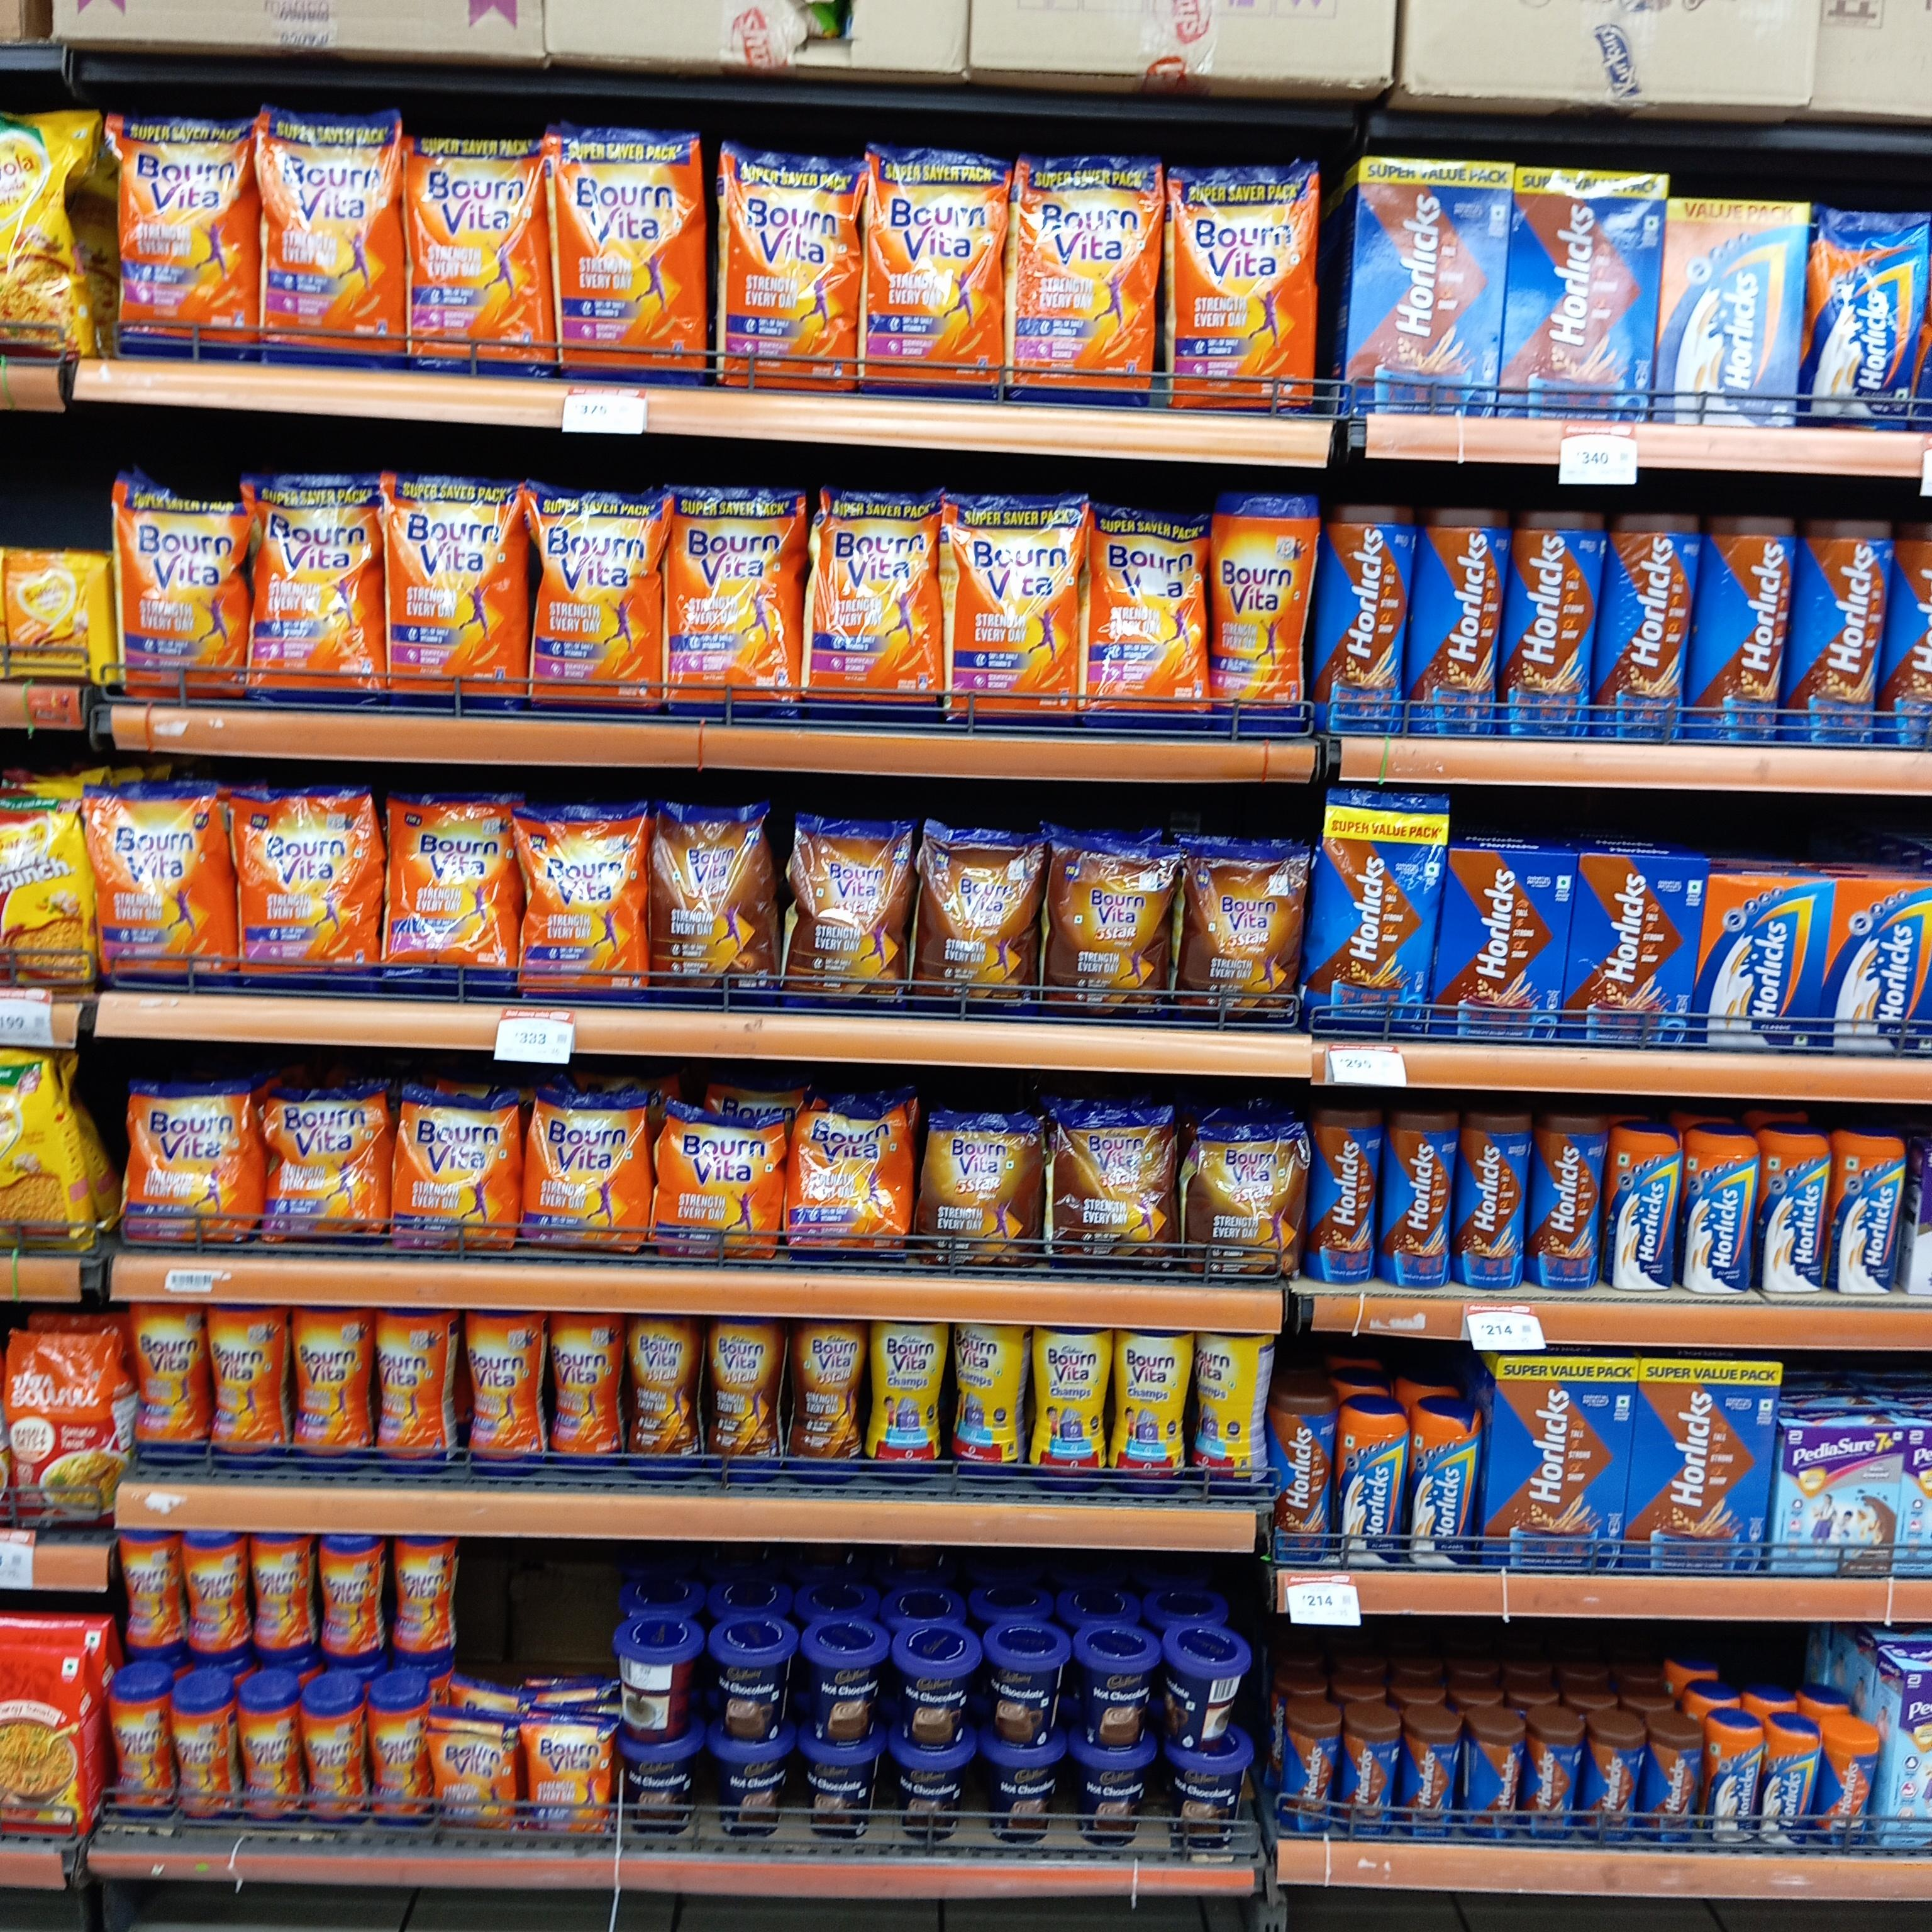BOURN_VITA_1_KG_JAR: (1215, 494, 1307, 747)
BOURN_VITA_1_KG_POUCH: (412, 133, 559, 380), (564, 131, 706, 387), (1014, 159, 1155, 410), (1175, 166, 1318, 412), (267, 111, 403, 370), (113, 110, 255, 357), (869, 143, 1001, 402), (387, 469, 525, 717), (720, 149, 855, 387), (676, 490, 809, 729), (814, 487, 941, 727), (260, 469, 384, 713), (111, 478, 242, 706), (955, 499, 1081, 736), (533, 494, 662, 722), (1097, 504, 1217, 738)
BOURN_VITA_200_G_JAR: (370, 1681, 432, 1831), (318, 1530, 382, 1668), (110, 1670, 166, 1821), (241, 1691, 299, 1833), (306, 1683, 361, 1829), (251, 1532, 311, 1663), (182, 1534, 241, 1661), (173, 1683, 225, 1824), (393, 1534, 448, 1661), (122, 1527, 175, 1656)
BOURN_VITA_500_G_JAR: (214, 1299, 285, 1479), (465, 1309, 538, 1484), (373, 1306, 446, 1479), (295, 1307, 366, 1472), (136, 1306, 205, 1474), (550, 1313, 621, 1472)
BOURN_VITA_500_G_POUCH: (257, 1083, 389, 1253), (131, 1086, 249, 1253), (402, 1095, 520, 1260), (660, 1108, 784, 1265), (534, 1100, 649, 1256), (793, 1100, 901, 1265)
BOURN_VITA_750_G_POUCH: (88, 782, 234, 993), (241, 786, 379, 989), (391, 796, 517, 1000), (522, 810, 648, 1007)
BOURN_VITA_75_G_POUCH: (529, 1716, 614, 1845), (433, 1730, 515, 1836)
BOURN_VITA_CHAMPS_500_G_JAR: (1113, 1325, 1187, 1502), (865, 1318, 939, 1490), (1037, 1323, 1111, 1493), (945, 1322, 1012, 1491), (1191, 1327, 1249, 1497)
BOURN_VITA_FIVE_STAR_MAGIC_500_G_JAR: (706, 1316, 786, 1483), (628, 1313, 701, 1483), (794, 1320, 863, 1486)
BOURN_VITA_FIVE_STAR_MAGIC_500_G_POUCH: (1056, 1108, 1178, 1281), (929, 1115, 1044, 1270), (1192, 1125, 1306, 1283)
BOURN_VITA_FIVE_STAR_MAGIC_750_G_POUCH: (653, 796, 778, 1012), (796, 810, 913, 1016), (920, 823, 1035, 1016), (1053, 840, 1166, 1024), (1187, 839, 1300, 1021)
HORLICK_CHOCOLATE_1_KG_JAR: (1414, 502, 1502, 743), (1325, 504, 1412, 741), (1509, 499, 1594, 740), (1803, 518, 1891, 748), (1711, 511, 1798, 743), (1603, 511, 1688, 747)
HORLICK_CHOCOLATE_1_KG_PACK: (1353, 157, 1499, 418), (1506, 163, 1652, 419), (1633, 1361, 1769, 1575), (1500, 1361, 1624, 1573)
HORLICK_CHOCOLATE_200_G_JAR: (1644, 1723, 1702, 1851), (1465, 1716, 1523, 1840), (1401, 1718, 1458, 1844), (1283, 1706, 1334, 1844), (1589, 1720, 1642, 1851), (1346, 1720, 1401, 1844), (1530, 1718, 1582, 1847)
HORLICK_CHOCOLATE_500_G_JAR: (1534, 1113, 1603, 1293), (1270, 1389, 1336, 1573), (1458, 1113, 1527, 1286), (1385, 1111, 1451, 1293), (1313, 1109, 1380, 1286)
HORLICK_CHOCOLATE_500_G_PACK: (1573, 849, 1698, 1047), (1444, 849, 1559, 1040)
HORLICK_CHOCOLATE_750_G_POUCH: (1315, 789, 1438, 1033)
HORLICK_CLASSIC_MALT_200_G_JAR: (1713, 1716, 1762, 1854), (1766, 1729, 1817, 1854)
HORLICK_CLASSIC_MALT_500_G_JAR: (1405, 1398, 1483, 1575), (1833, 1118, 1902, 1299), (1606, 1125, 1679, 1292), (1757, 1125, 1828, 1295), (1684, 1123, 1752, 1295), (1341, 1392, 1399, 1569)
HORLICK_CLASSIC_MALT_500_G_PACK: (1663, 196, 1803, 426), (1702, 872, 1821, 1051), (1826, 874, 1932, 1051)
HORLICK_CLASSIC_MALT_750_G_POUCH: (1812, 209, 1932, 439)
PEDIASURE_7_PLUS_CHOCOLATE_400_G_PACK: (1778, 1424, 1898, 1575)
